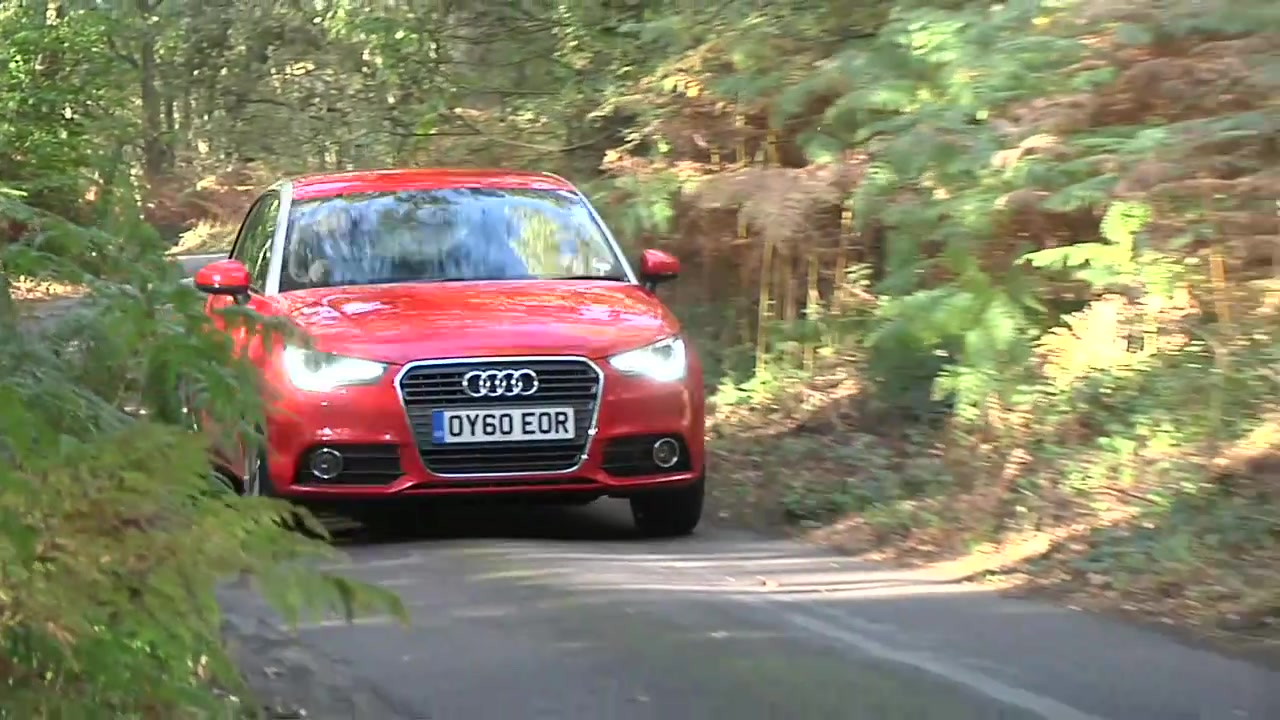car: (191, 174, 711, 541)
